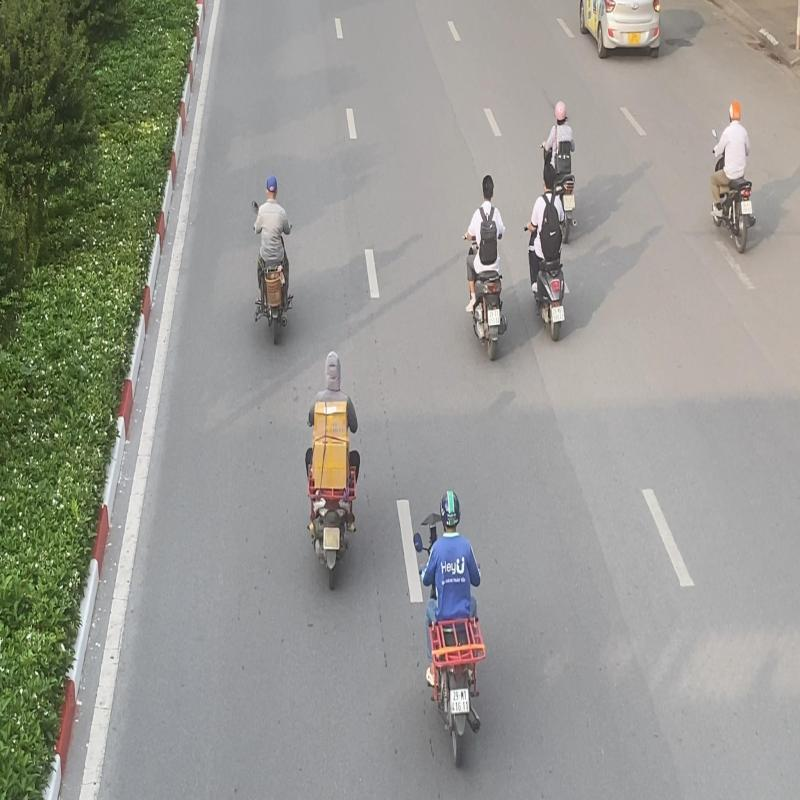helmet: (440, 489, 462, 532), (729, 100, 741, 122)
licenseplate: (450, 688, 470, 715), (552, 305, 566, 323), (488, 309, 501, 327), (741, 201, 753, 214)
motorcyclist: (414, 488, 486, 770), (462, 174, 509, 360), (524, 162, 566, 342), (252, 175, 294, 347), (710, 99, 756, 255)
nohelmet: (542, 164, 556, 192), (481, 176, 494, 200), (266, 174, 278, 198)
